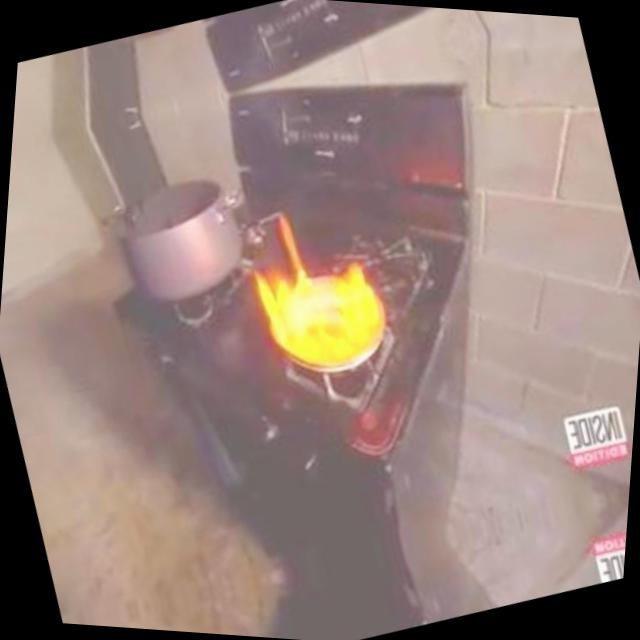fire: (208, 200, 418, 423)
